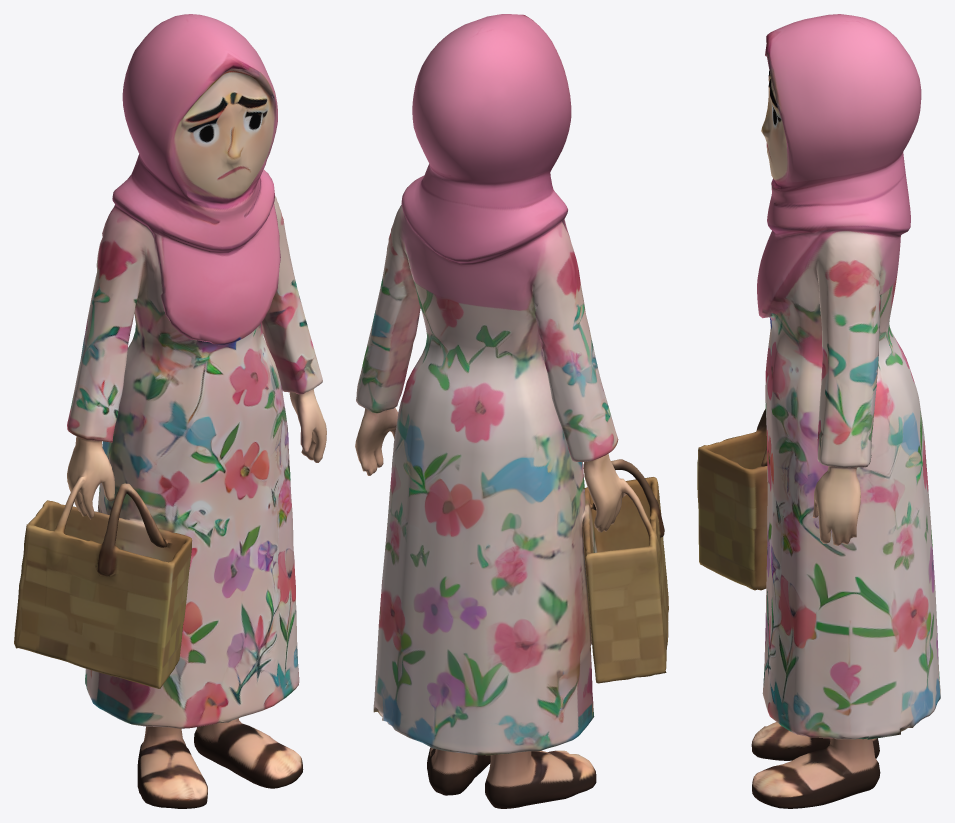
Rendered from npc_bu_euis.glb.
3 views of the same model, side by side, from view 1: azimuth 30°, elevation 25°; view 2: azimuth 150°, elevation 25°; view 3: azimuth 270°, elevation 25° (orthographic). The views are drawn at different scales.
Visible parts, largest first — view 1: model; view 2: model; view 3: model.
Part boxes in pixels (x1,y1,x2,y2): model: [14, 14, 326, 808]; model: [355, 14, 668, 808]; model: [697, 14, 940, 808].
Bounding box in the file's own units: 0.7754 × 1.83 × 0.5366.
Materials: 1 (1 with a texture image).
